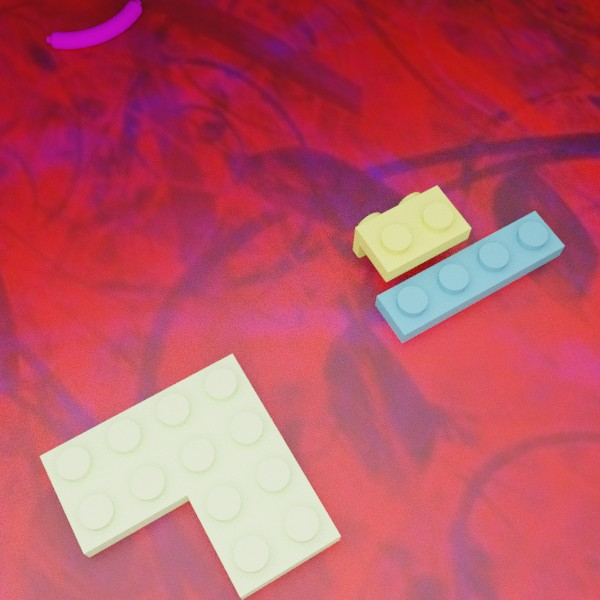lego: (39, 353, 340, 599), (375, 210, 564, 343), (352, 185, 471, 282), (46, 0, 142, 49)
